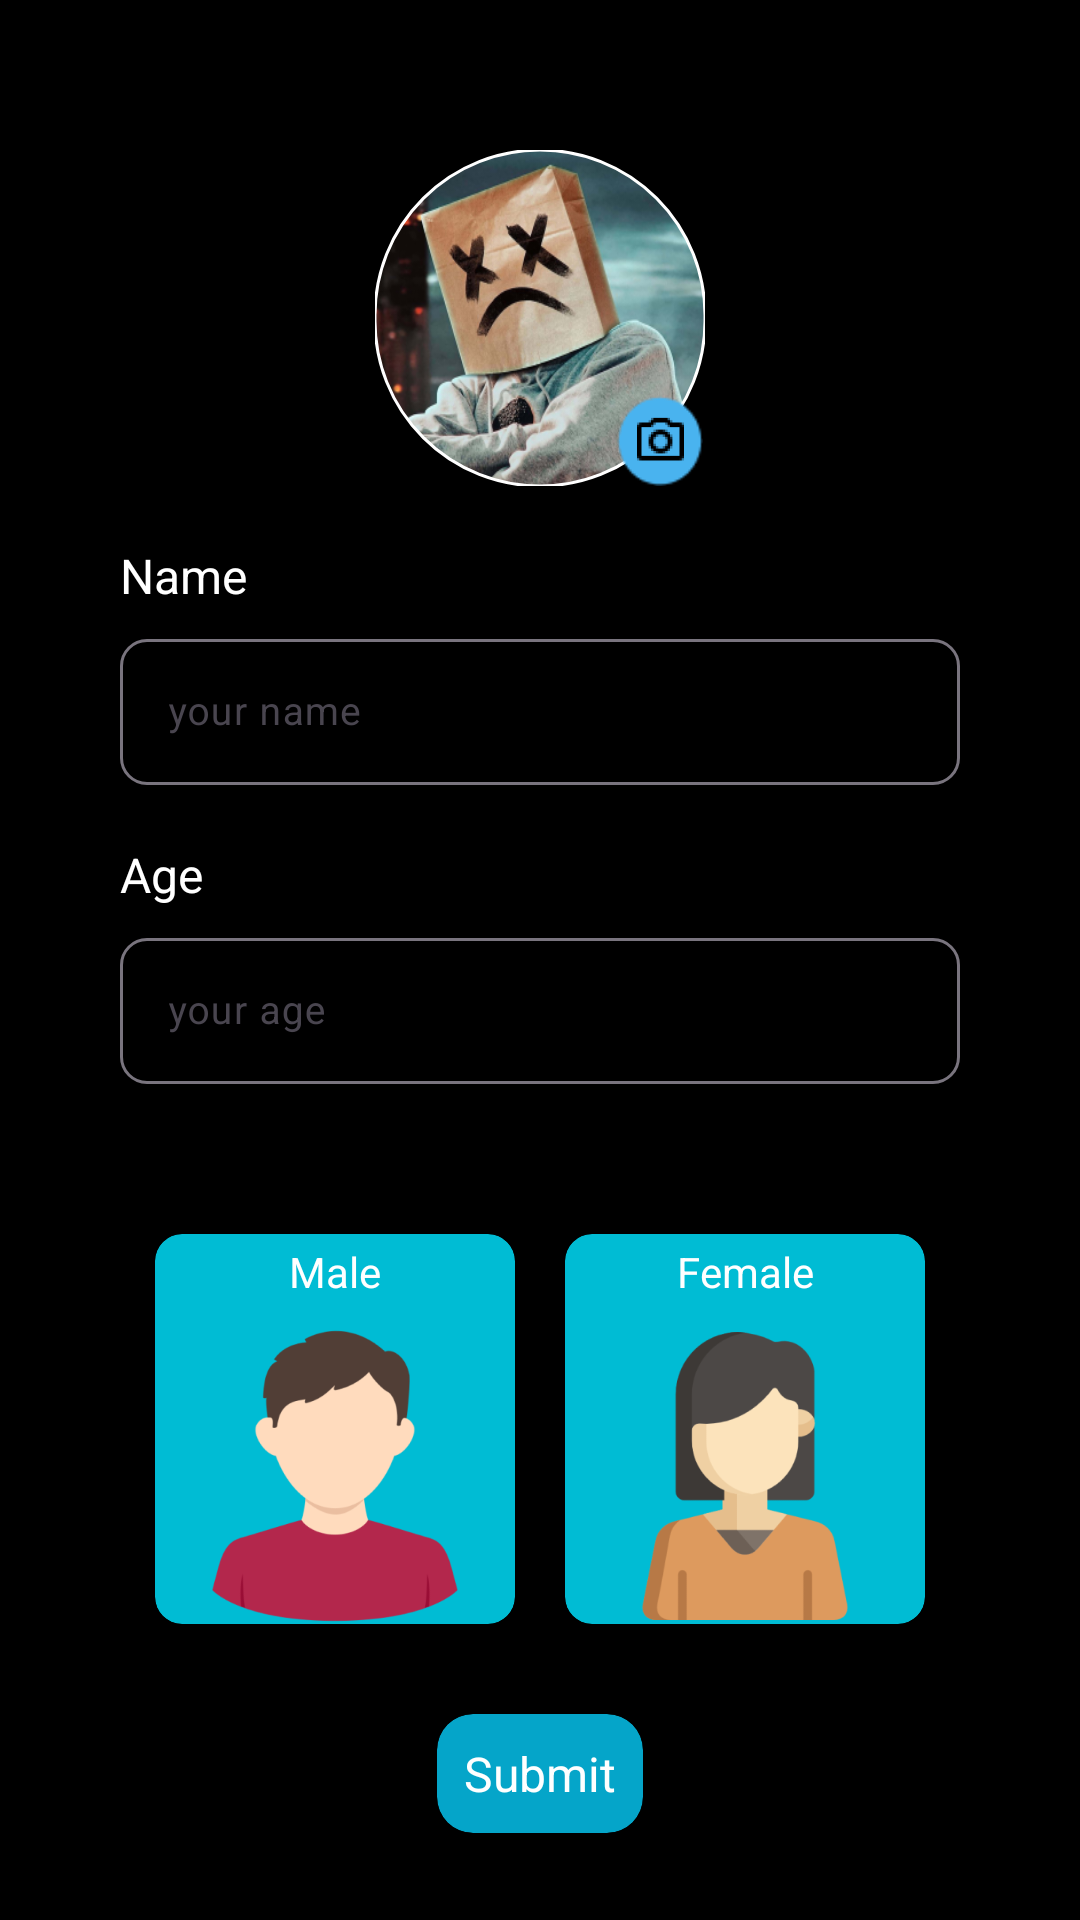

Screen size 1080 × 1920. Icon name, then its box in pixels as (x1, y1, x2, y2):
boy: (212, 1331, 458, 1621)
